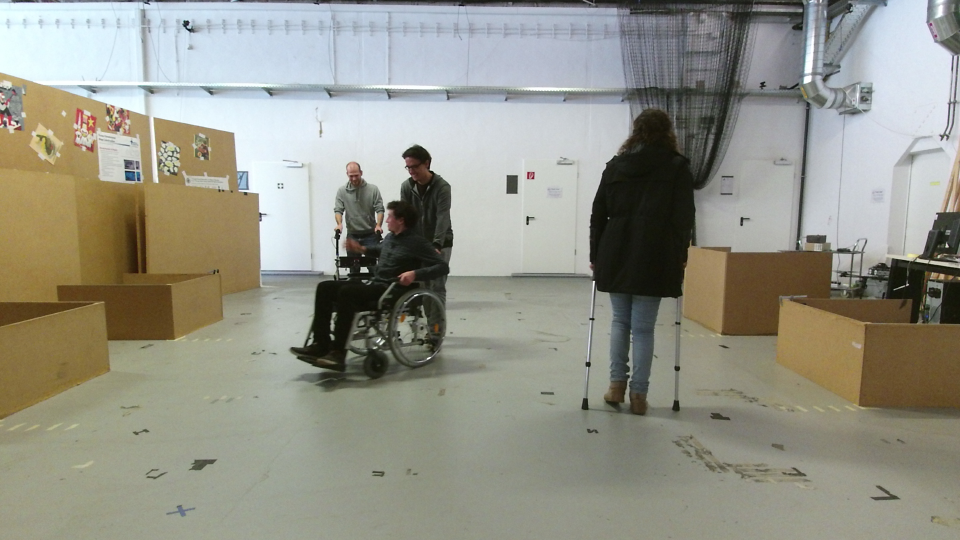crutches: (568, 106, 708, 431)
